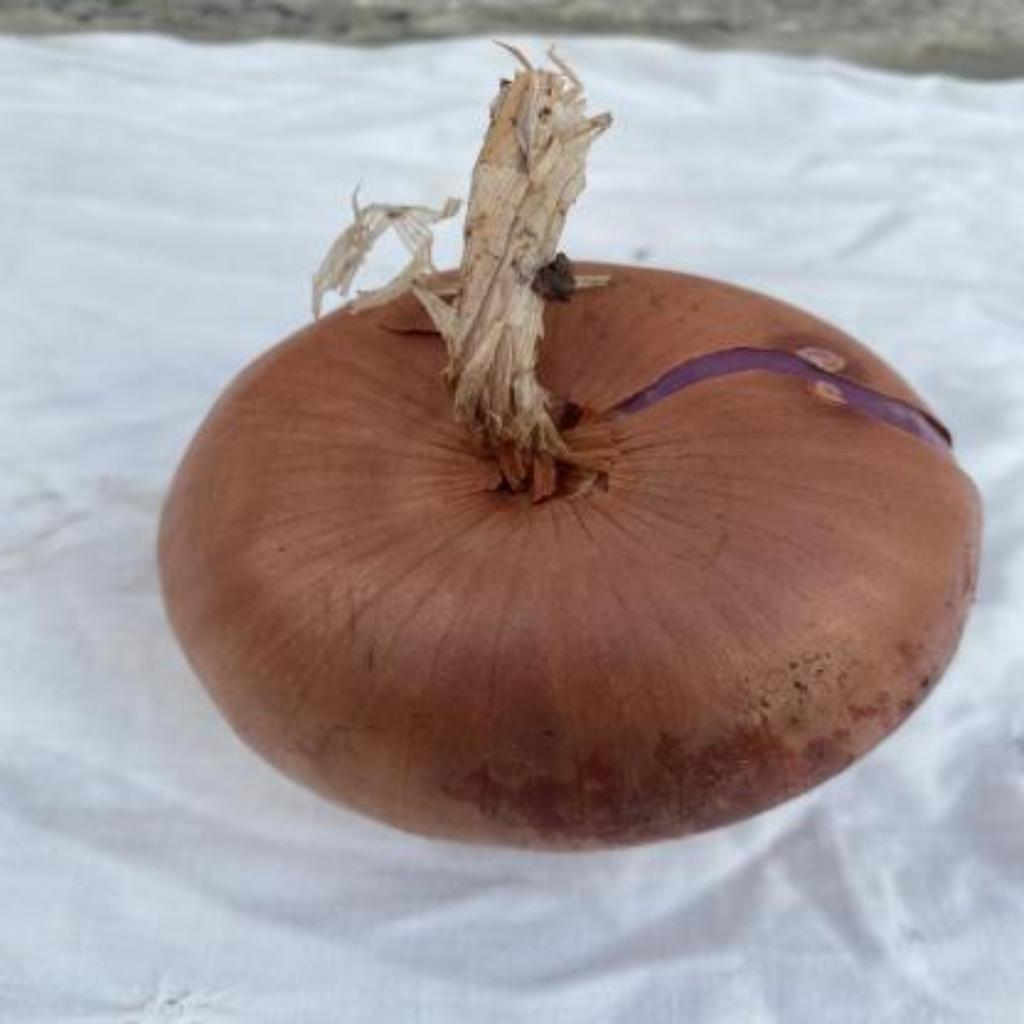Onion: (158, 47, 985, 850)
